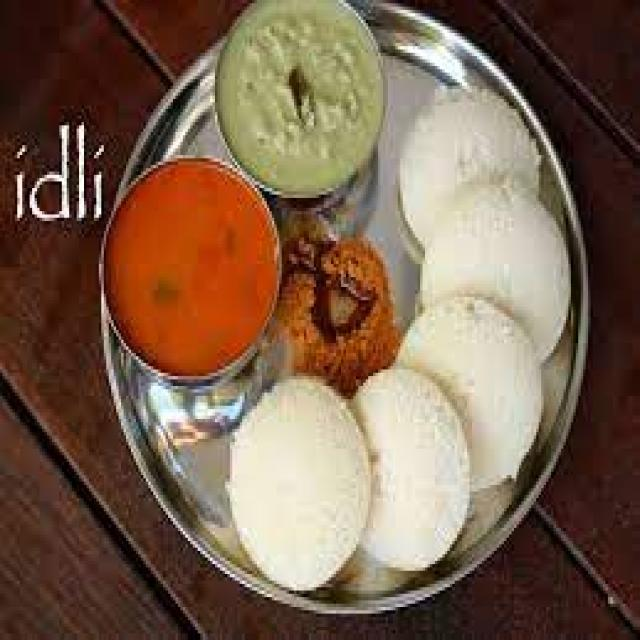chutney: (220, 0, 378, 185)
idli: (225, 376, 375, 594), (418, 172, 568, 370), (393, 294, 539, 492), (341, 363, 472, 574), (398, 86, 544, 264)
